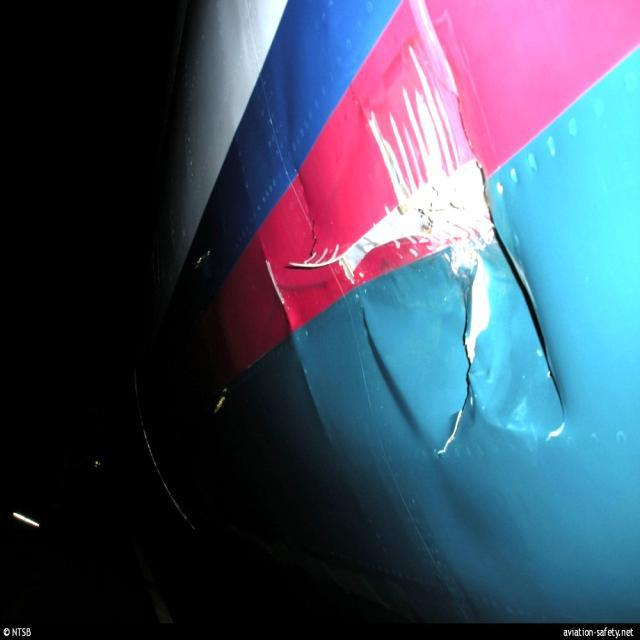crack: (436, 253, 493, 455)
dent: (364, 309, 429, 450), (493, 345, 532, 426), (493, 287, 527, 342)
